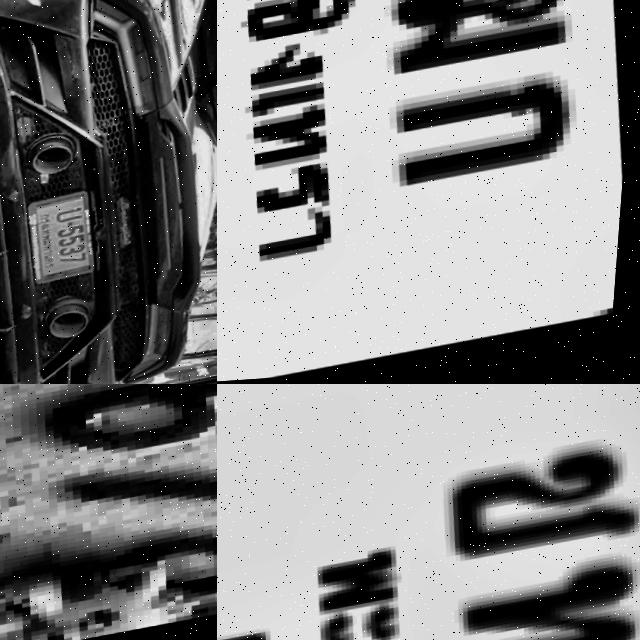license-plate: (217, 0, 640, 384), (217, 384, 640, 640), (0, 384, 217, 640), (28, 192, 110, 291)
